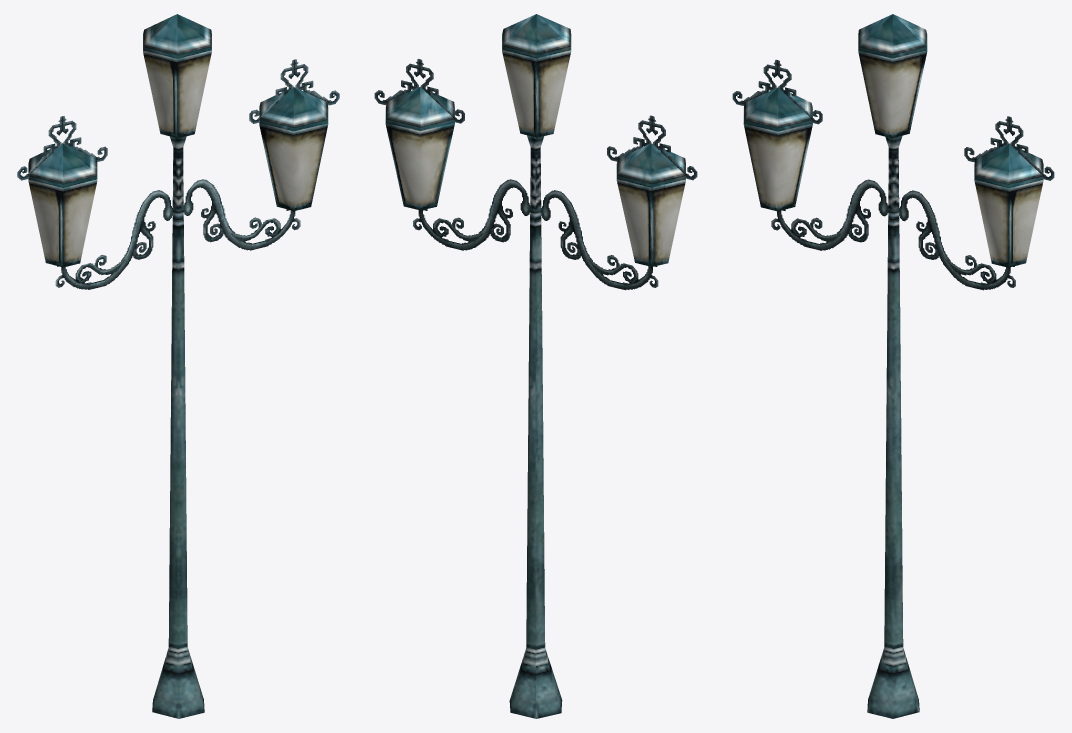
Rendered from town-lantern.glb.
3 renders of one model, left to right at view 1: azimuth 30°, elevation 25°; view 2: azimuth 150°, elevation 25°; view 3: azimuth 330°, elevation 25°, orthographic.
Visible parts, largest first — view 1: Cylinder05; view 2: Cylinder05; view 3: Cylinder05.
Part boxes in pixels (<box>): Cylinder05: <box>17,14,339,718</box>; Cylinder05: <box>374,14,697,718</box>; Cylinder05: <box>732,14,1054,718</box>.
Bounding box in the file's own units: 0.0493 × 0.0992 × 0.00898.
Materials: 3 (3 with a texture image).
